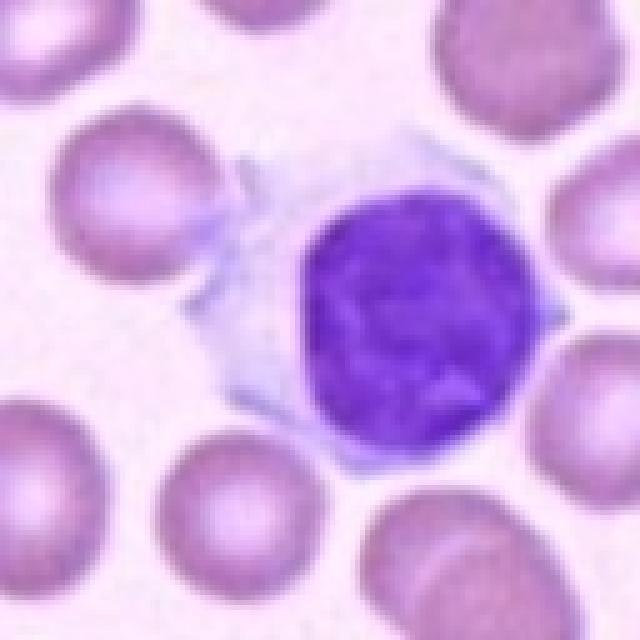lympho: (179, 109, 572, 487)
